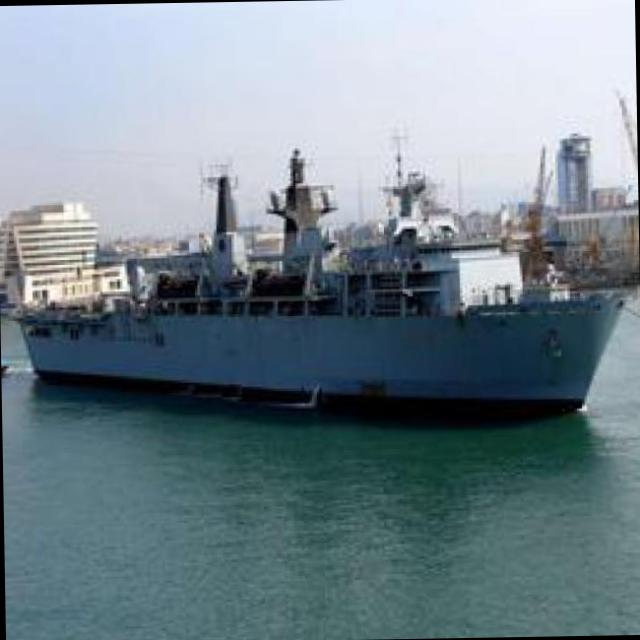boat: (7, 283, 617, 434)
